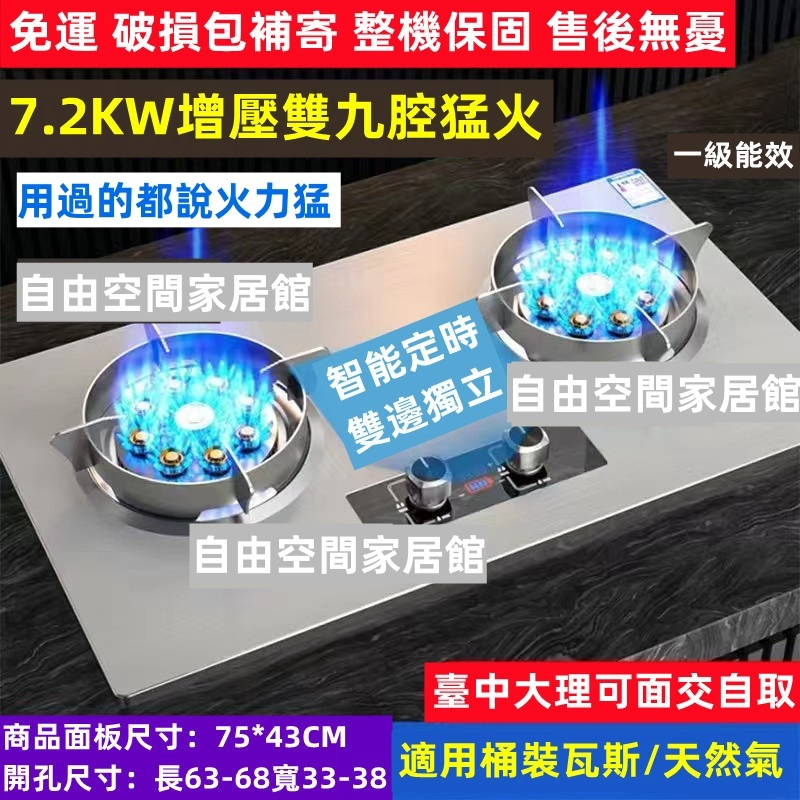gasoven: (1, 165, 797, 702)
